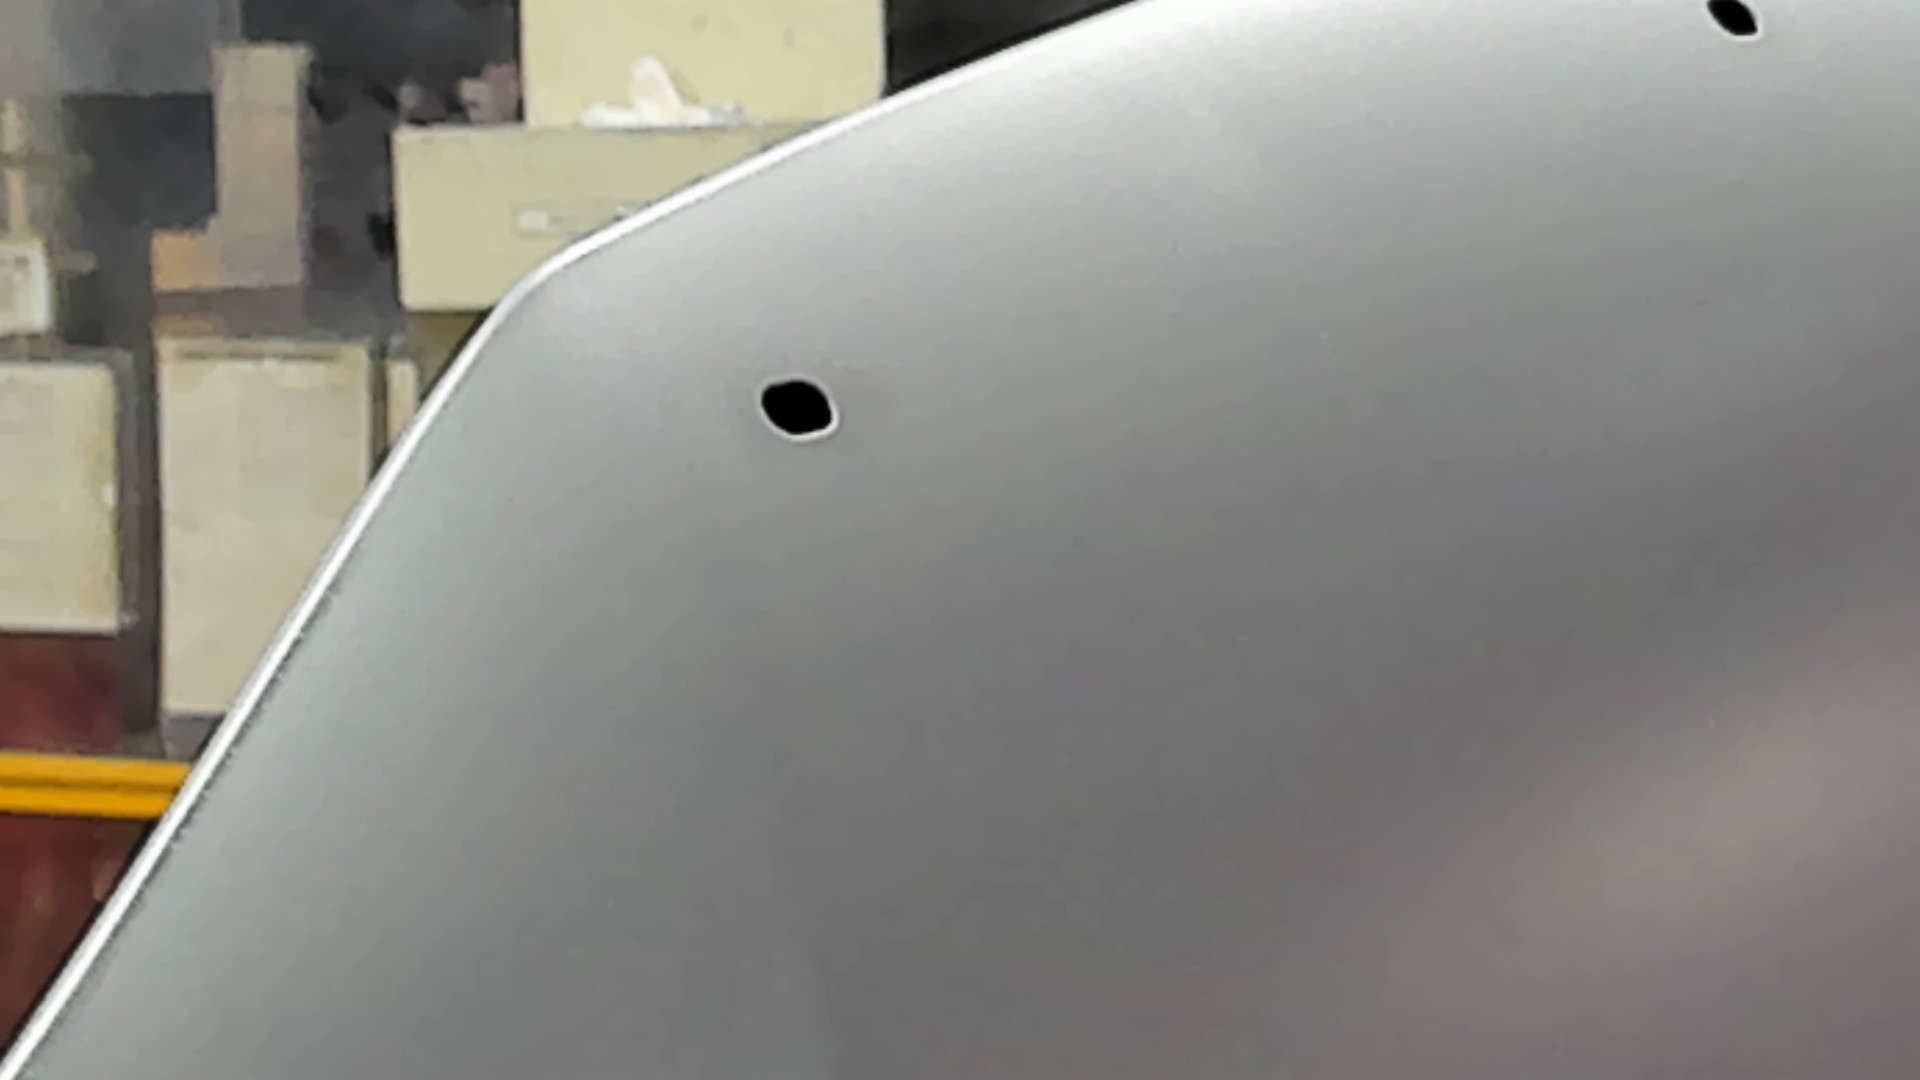amorfo: (748, 375, 845, 446), (1695, 1, 1774, 51)
capo: (902, 121, 1920, 1080)
